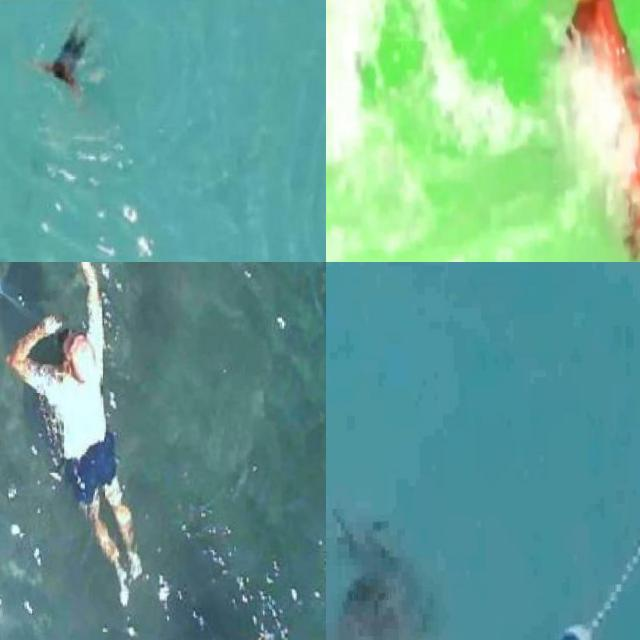drowning: (532, 0, 640, 260), (326, 501, 450, 640)
swimming: (0, 262, 148, 563), (15, 10, 116, 96)
